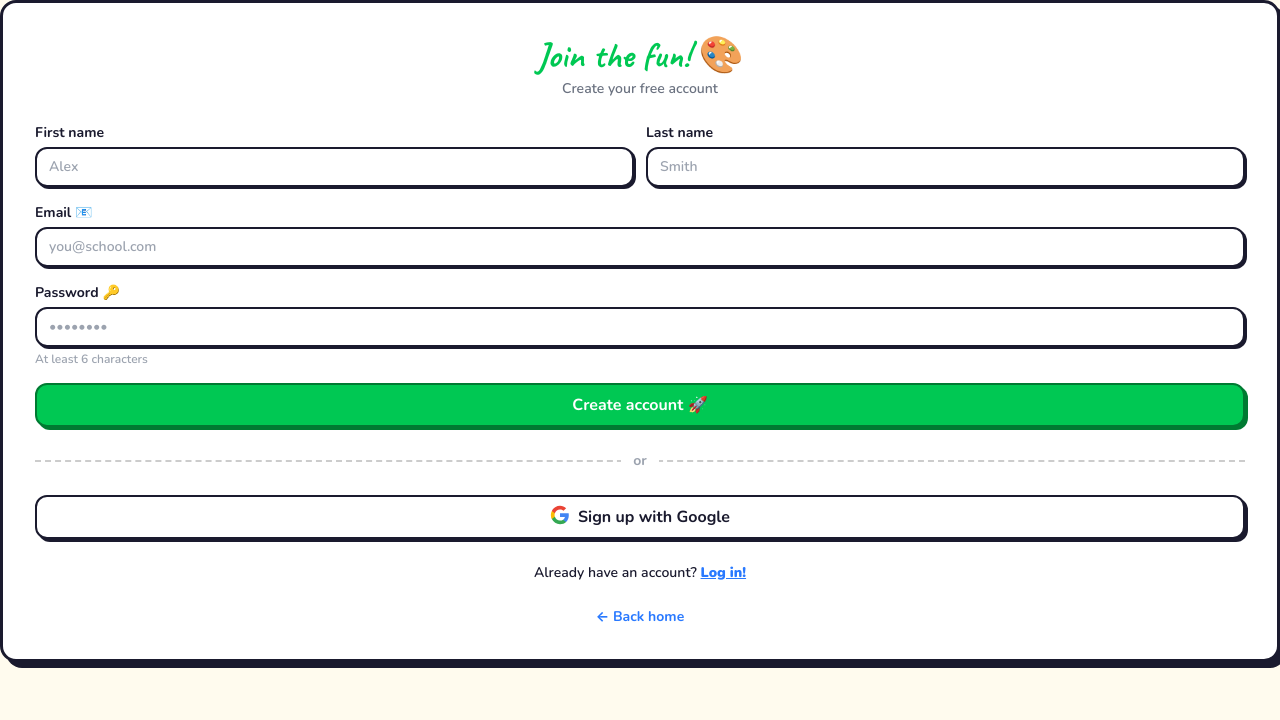
Test case: SignupForm › error handling › shows error when email already in use
Type "Test" into the field labelled "First name" at (334, 167), box [35,147,634,187]
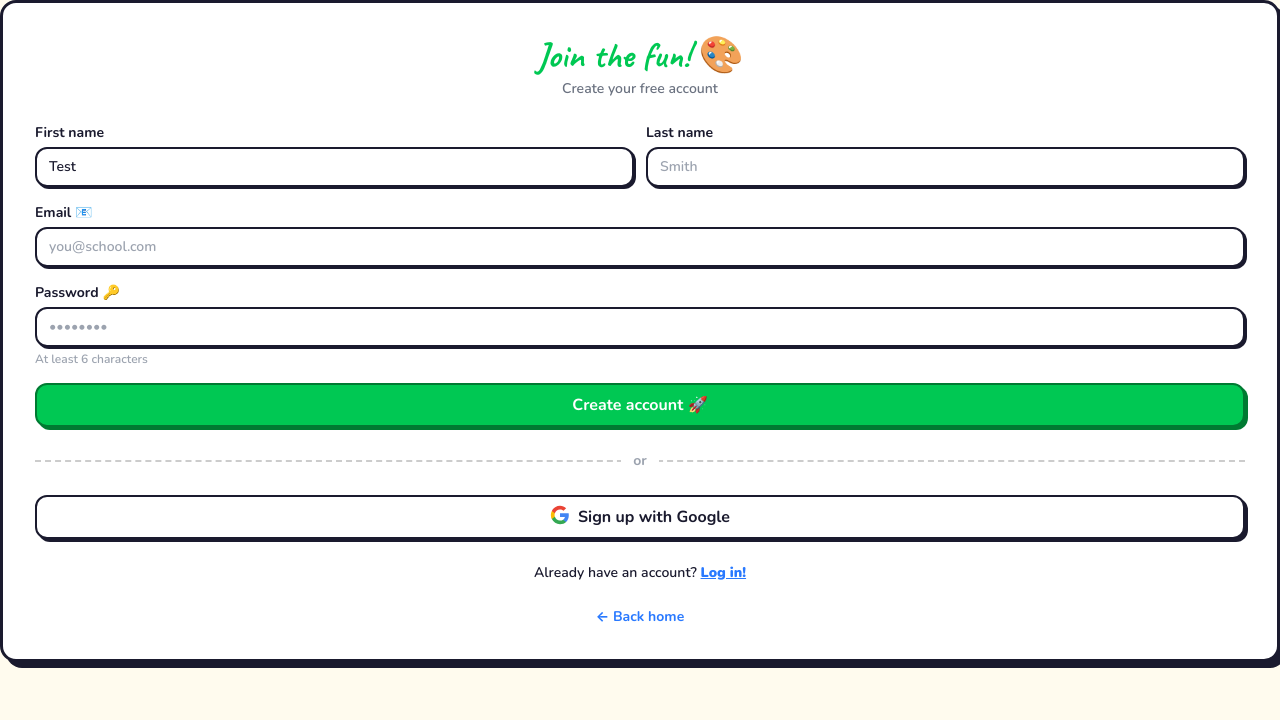
Type "User" into the field labelled "Last name" at (946, 167), box [646,147,1245,187]
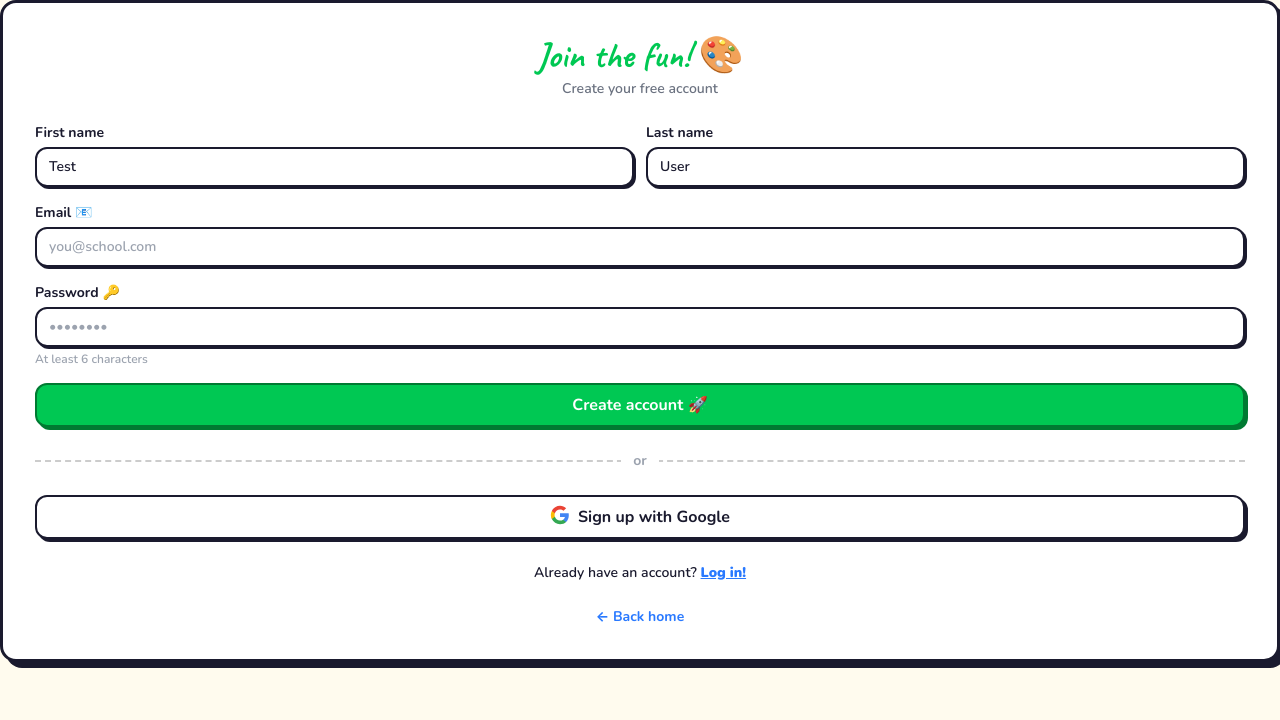
Type "test@example.com" into the field labelled "Email 📧" at (640, 247), box [35,227,1245,267]
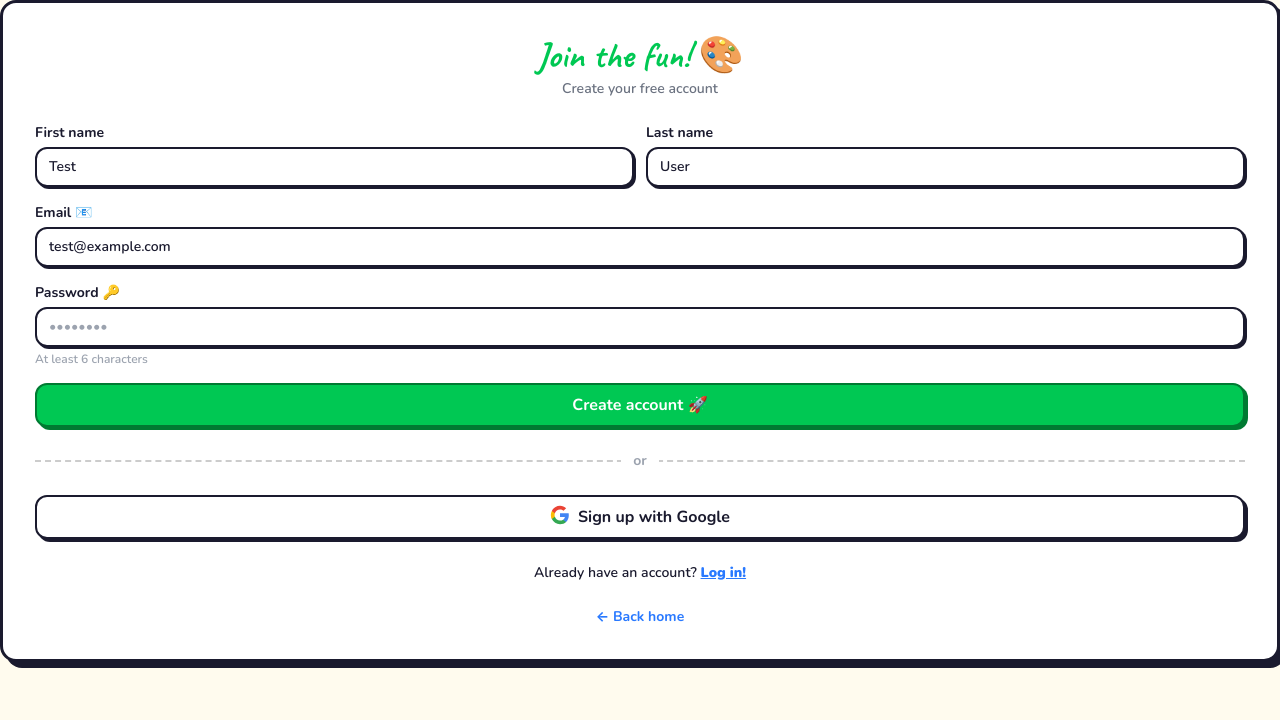
Type "password123" into the password field labelled "Password 🔑" at (640, 327), box [35,307,1245,347]
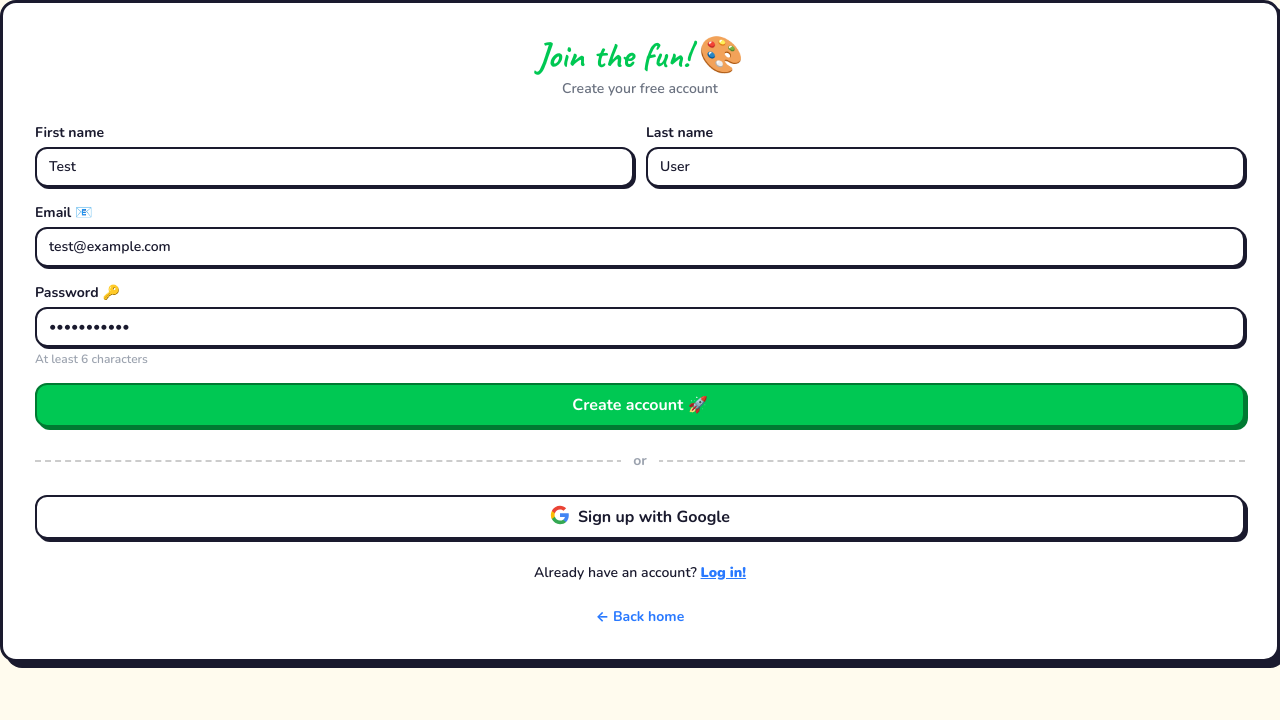
Click the button "Create account 🚀" at (640, 405), box [35,383,1245,427]
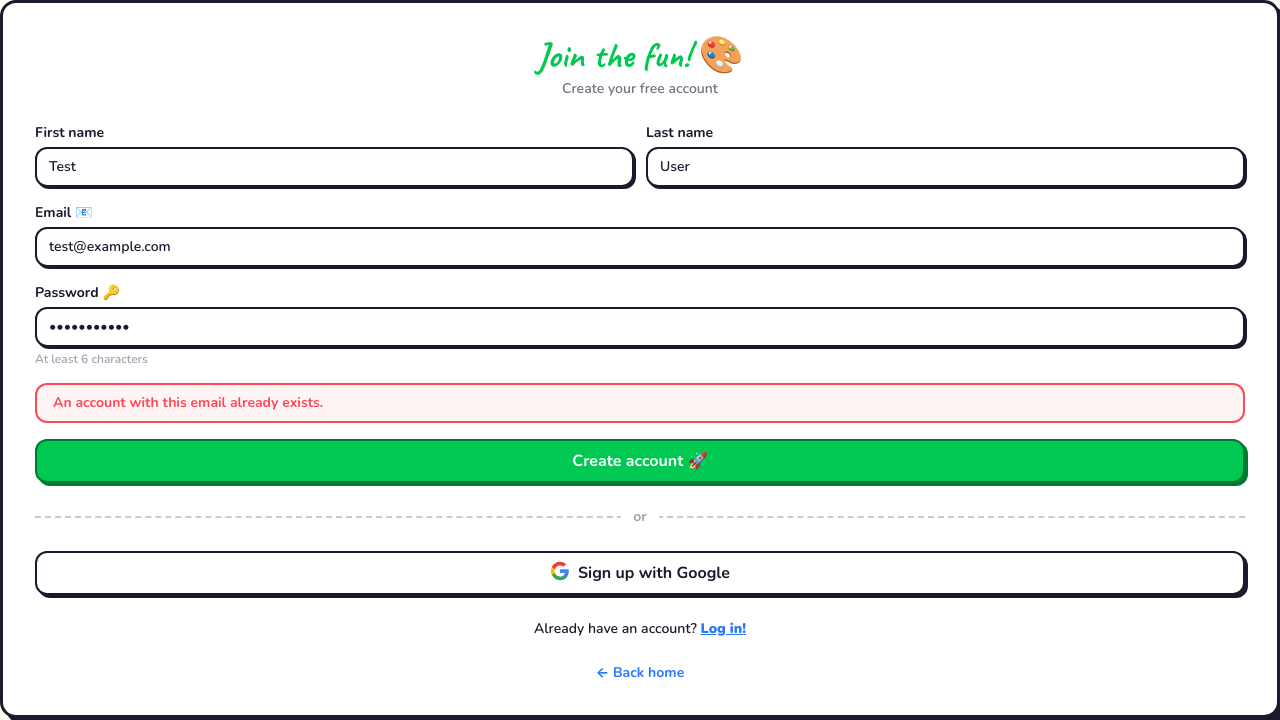
Expected: the text "An account with this email already exists." is shown, [35,383,1245,423]
